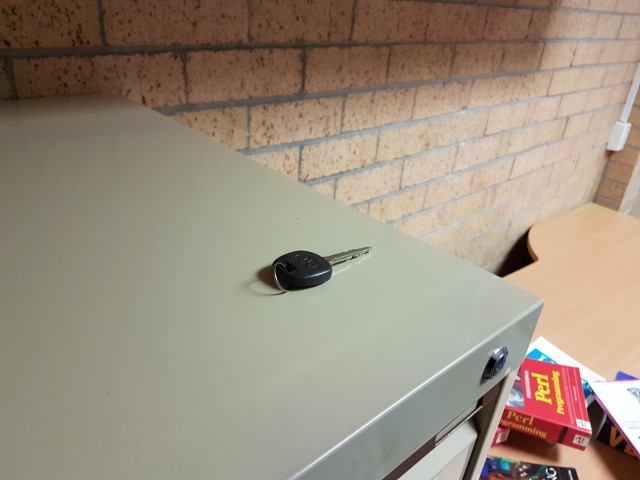key: (271, 242, 373, 291)
